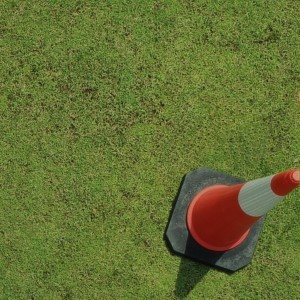traffic cone: (165, 168, 300, 272)
